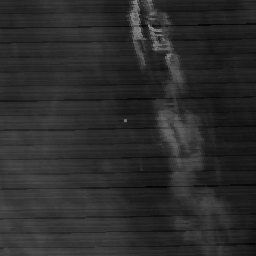Target: (122, 117, 128, 124)
